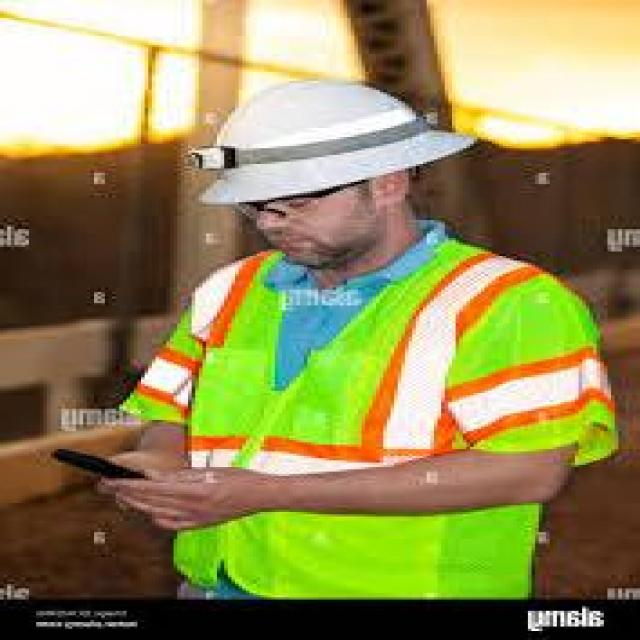Reflective-Jacket: (112, 236, 618, 597)
Safety-Helmet: (185, 72, 488, 213)
